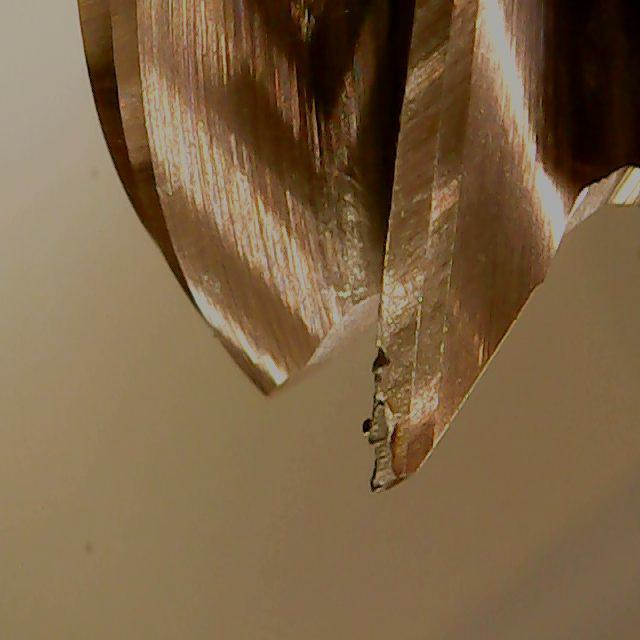Tool-wear-class-1: (354, 223, 442, 494)
